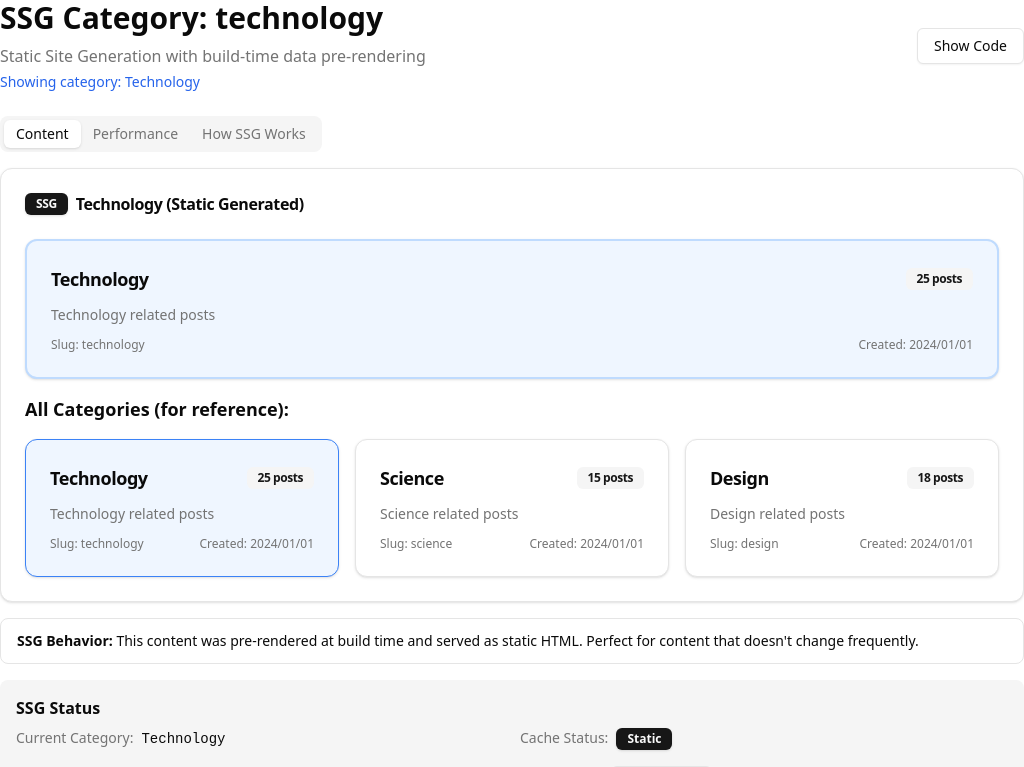
Test: SsgPresentational (Category) › should toggle code display
The image size is (1024, 767).
Expected: the text "ソースコード" is not shown
Note: Show Codeボタンをクリック
Click the button "Show Code" at (970, 46), box [917,28,1023,64]
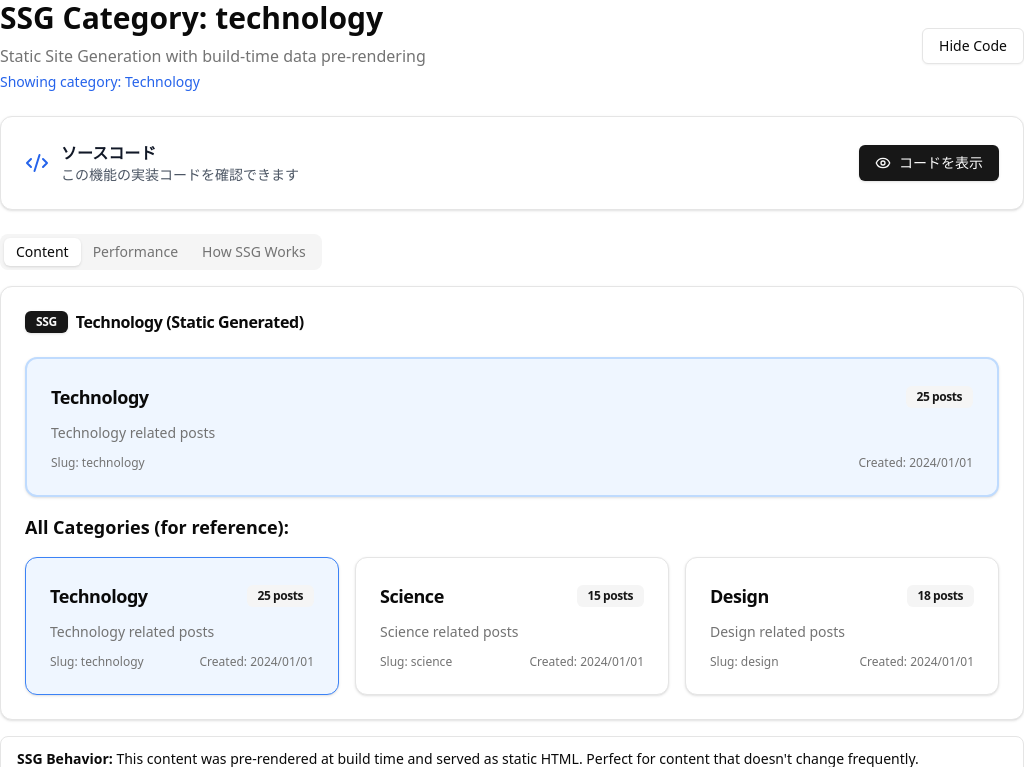
Now the heading "ソースコード" is shown, box [61,142,156,164]
Now the text "この機能の実装コードを確認できます" is shown, box [61,165,299,185]
Note: Hide Codeボタンをクリック
Click the button "Hide Code" at (973, 46), box [922,28,1023,64]
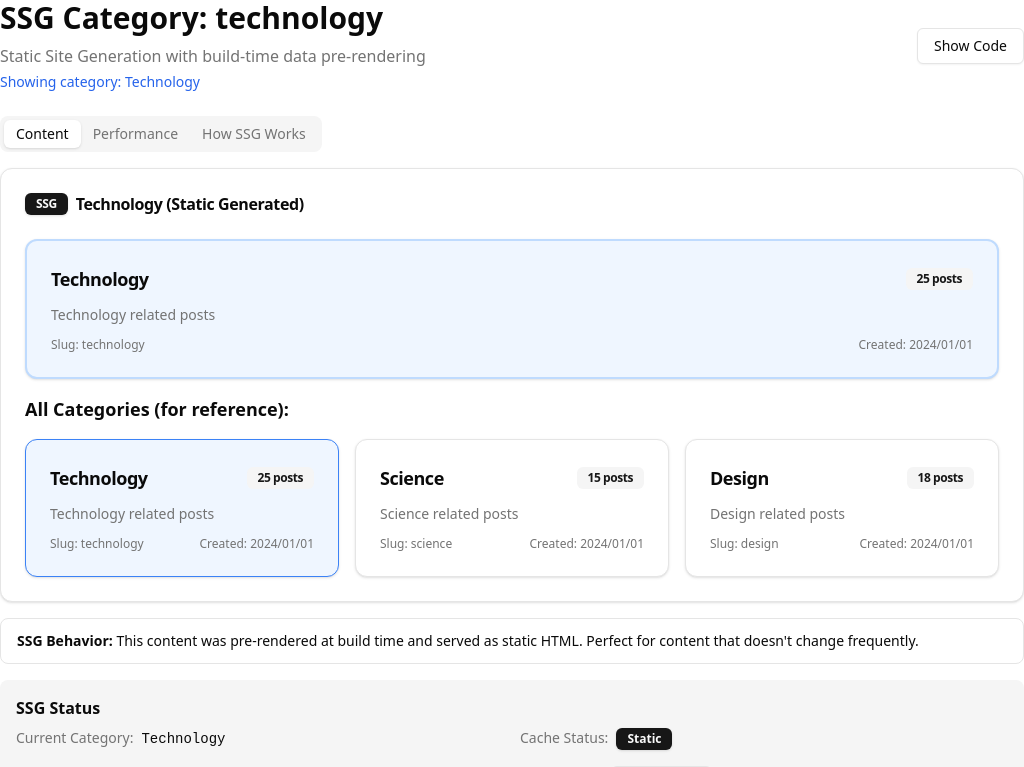
Now the heading "ソースコード" is gone
